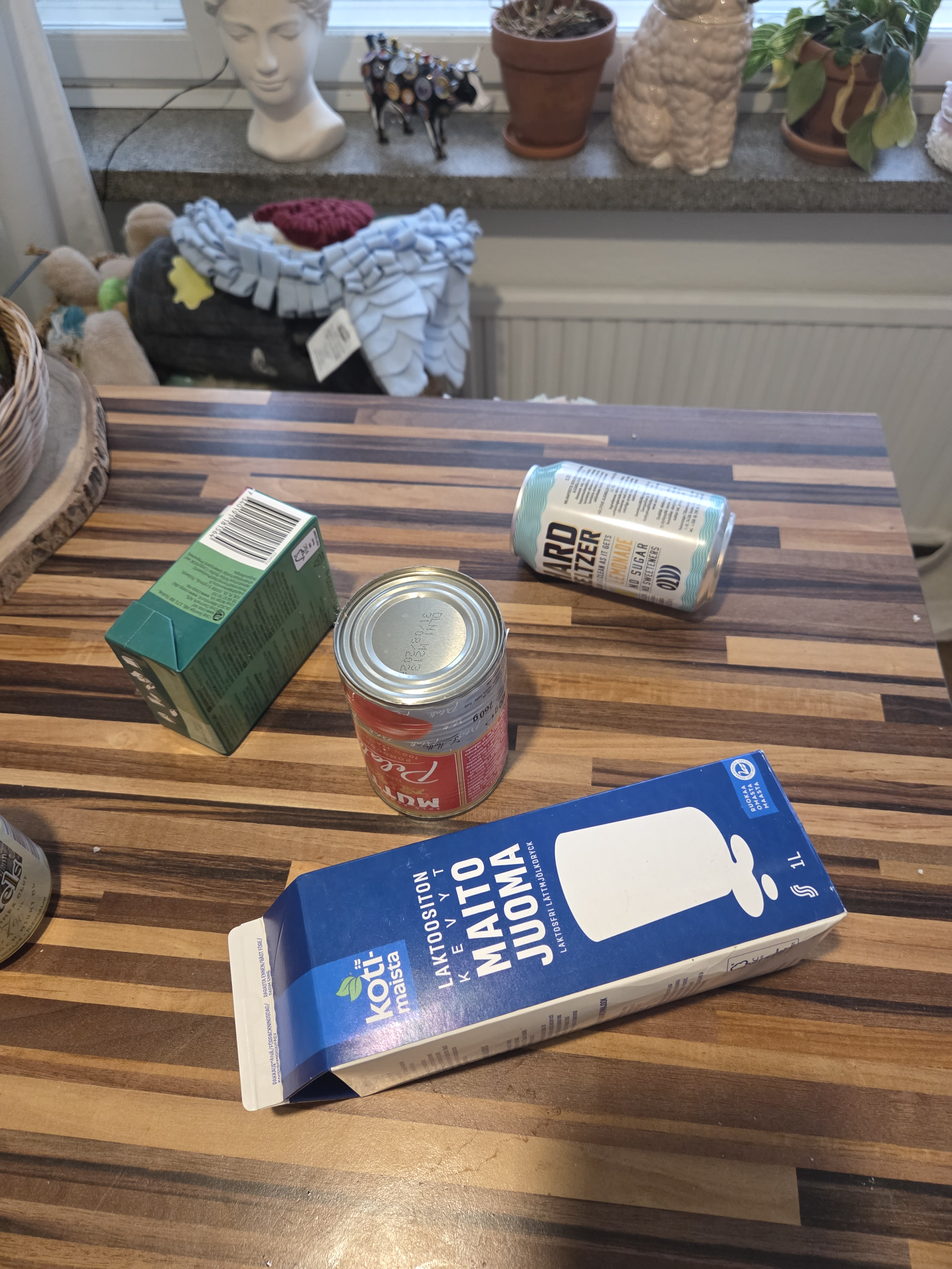Dryckeskartong: (228, 750, 850, 1112)
Konservburk: (330, 568, 510, 818)
Pantburk: (509, 459, 738, 615)
